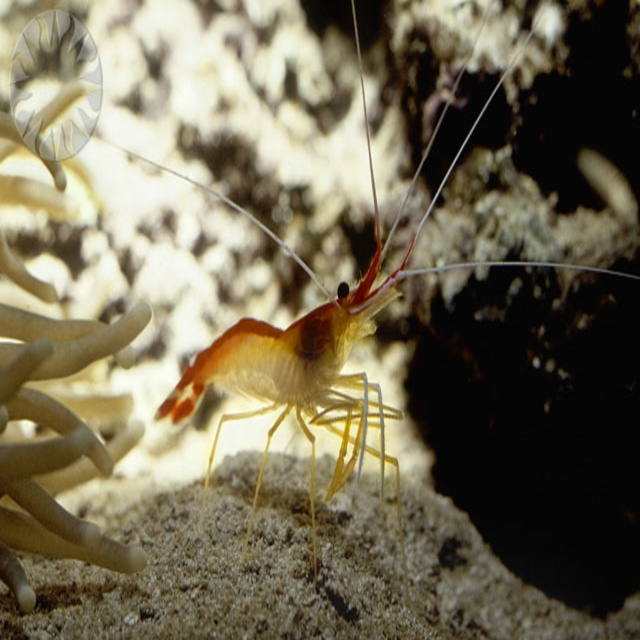Shrimp: (89, 0, 640, 599)
